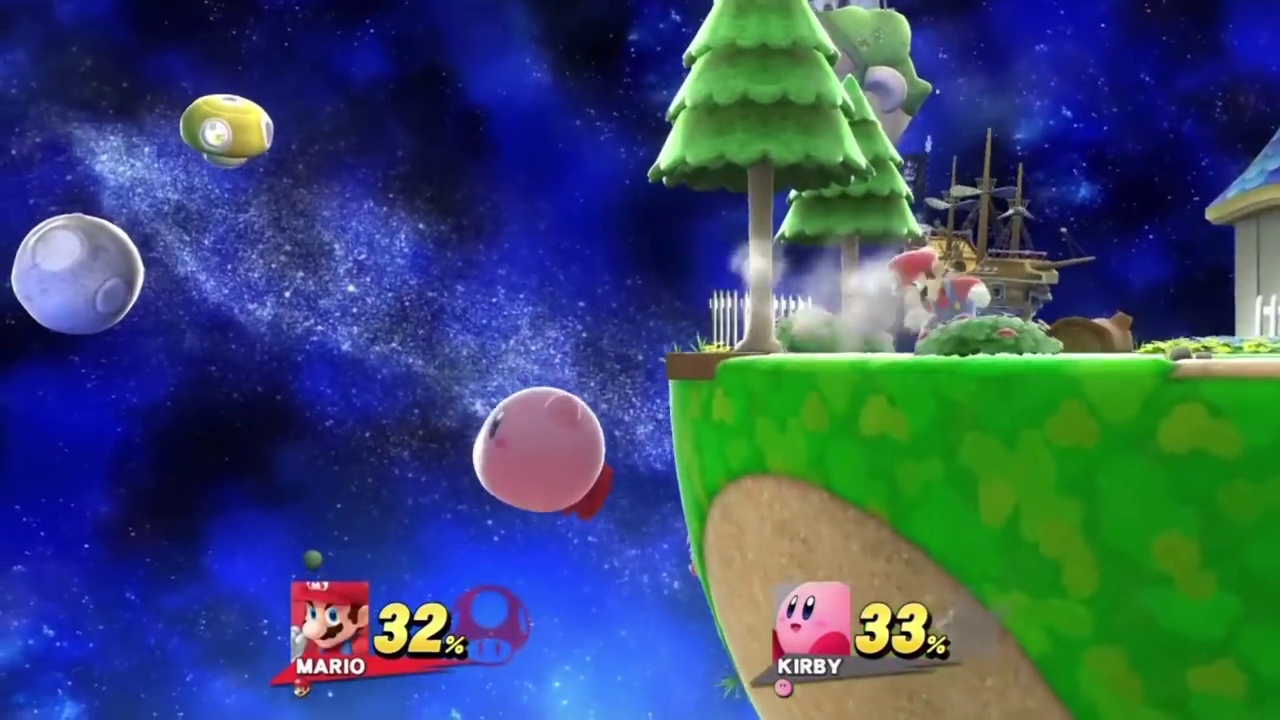Mario: (887, 248, 986, 331)
